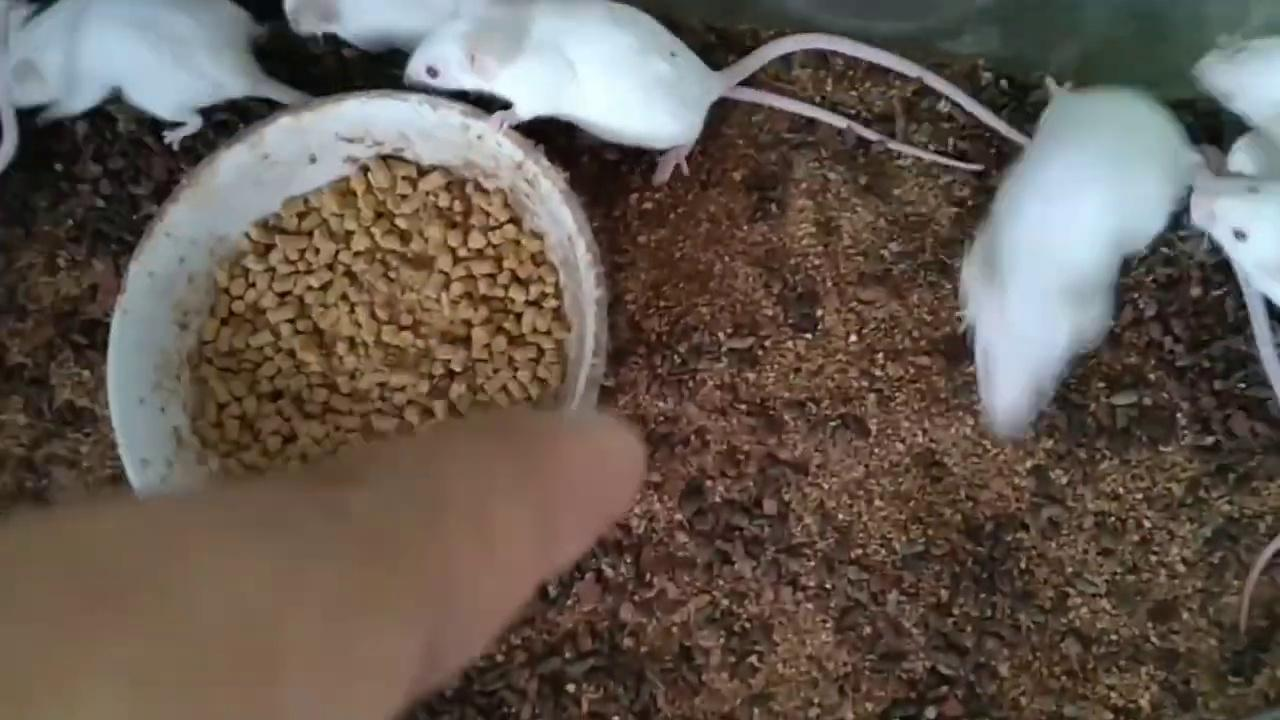rat: (406, 0, 1031, 183), (959, 79, 1208, 441), (3, 0, 316, 149), (1191, 175, 1280, 305)
